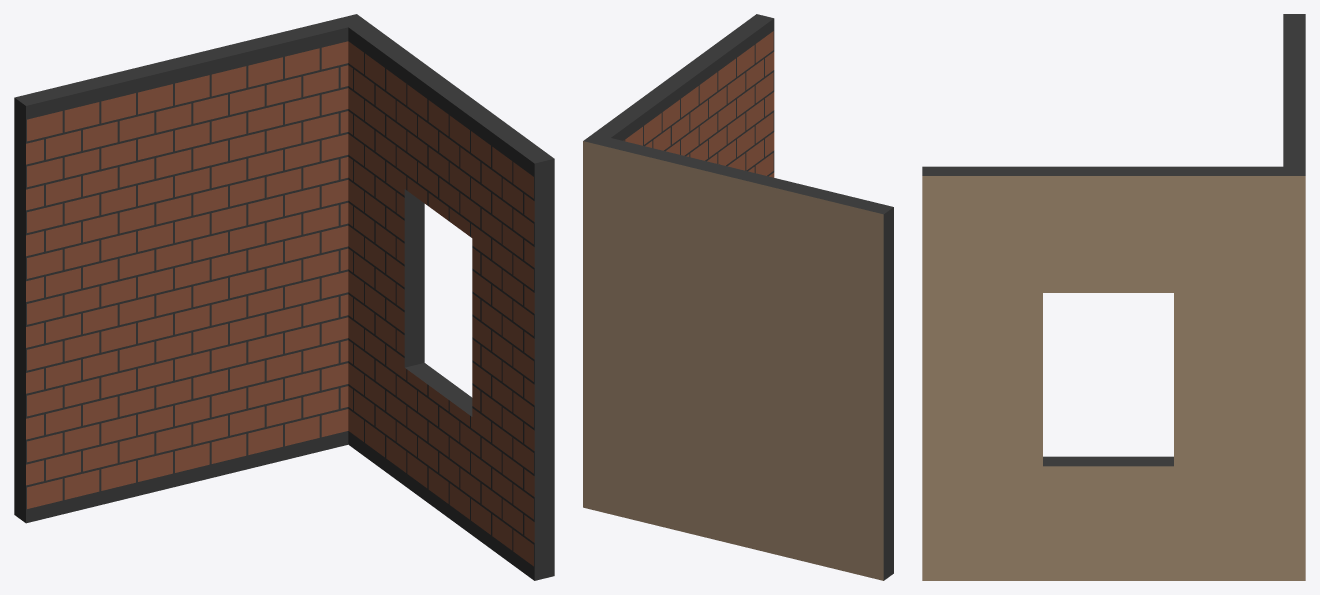
File: Wall2_C10_08.fbx
3 renders of one model, left to right at view 1: azimuth 30°, elevation 25°; view 2: azimuth 150°, elevation 25°; view 3: azimuth 270°, elevation 25°, orthographic. The views are drawn at different scales.
Parts seen in each view (by area): view 1: Wall2_C10_08; view 2: Wall2_C10_08; view 3: Wall2_C10_08.
Boxes of the visible parts, left/top/right/bottom form: Wall2_C10_08: left=14, top=14, right=554, bottom=580; Wall2_C10_08: left=583, top=14, right=893, bottom=580; Wall2_C10_08: left=922, top=14, right=1305, bottom=580.
Bounding box in the file's own units: 258 × 300 × 258.
